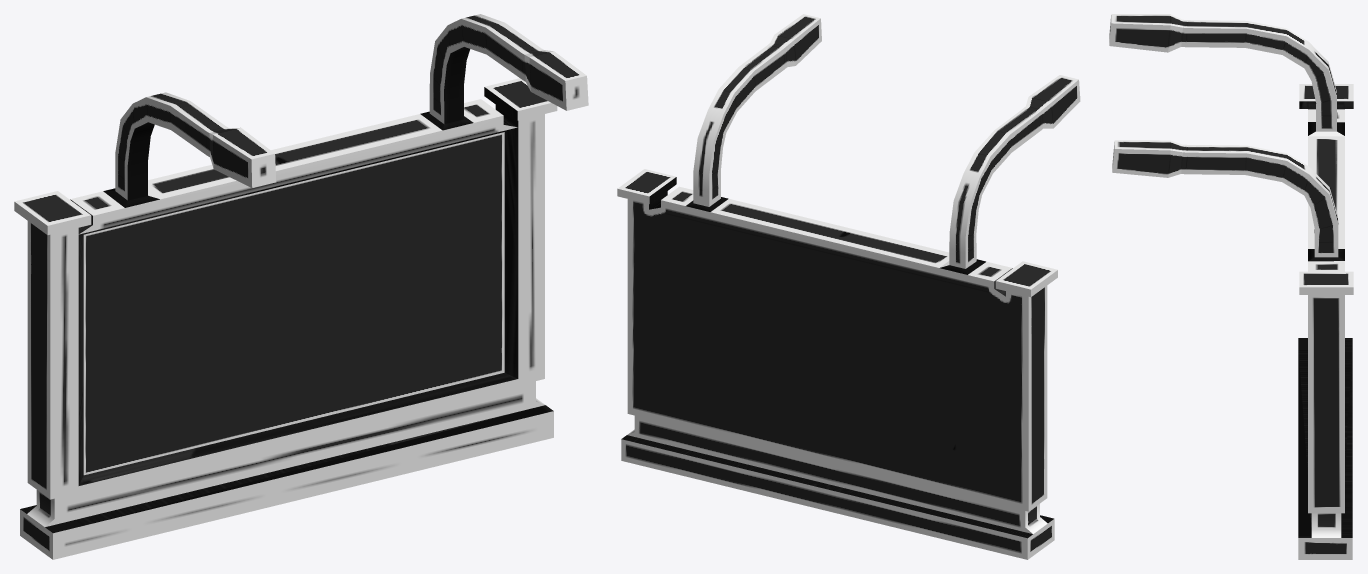
Rendered from BillboardGGJ.fbx.
3 views of the same model, side by side, from view 1: azimuth 30°, elevation 25°; view 2: azimuth 150°, elevation 25°; view 3: azimuth 270°, elevation 25° (orthographic). The views are drawn at different scales.
Parts seen in each view (by area): view 1: pCube1; view 2: pCube1; view 3: pCube1.
Part boxes in pixels (x1=…): pCube1: x1=14, y1=14, x2=588, y2=559; pCube1: x1=617, y1=14, x2=1080, y2=559; pCube1: x1=1109, y1=14, x2=1353, y2=559.
Size of the model in its own units: 4.68 by 4.07 by 2.38.
